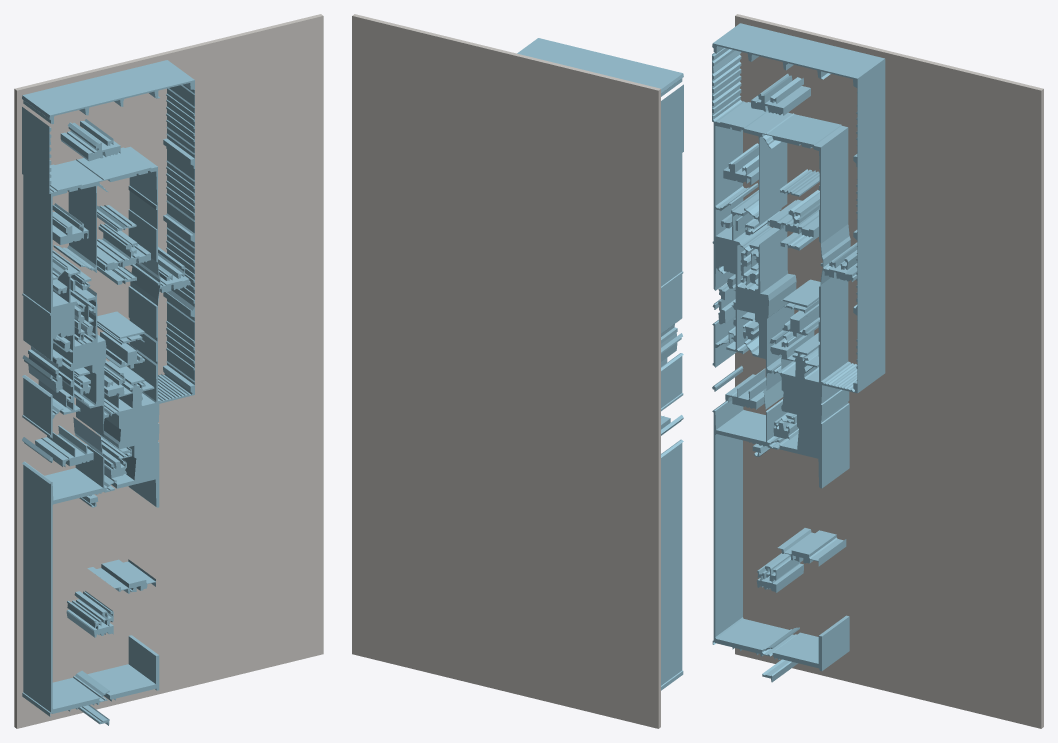
3 views of the same model, side by side, from view 1: azimuth 30°, elevation 25°; view 2: azimuth 150°, elevation 25°; view 3: azimuth 330°, elevation 25° (orthographic).
Parts seen in each view (by area): view 1: world; view 2: world; view 3: world.
Part boxes in pixels (<box>): world: <box>14,14,323,728</box>; world: <box>352,14,683,728</box>; world: <box>712,14,1043,728</box>.
Bounding box in the file's own units: 10.23 × 20.36 × 1.74.
